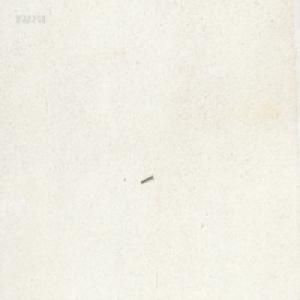Bolt: (140, 174, 153, 184)
